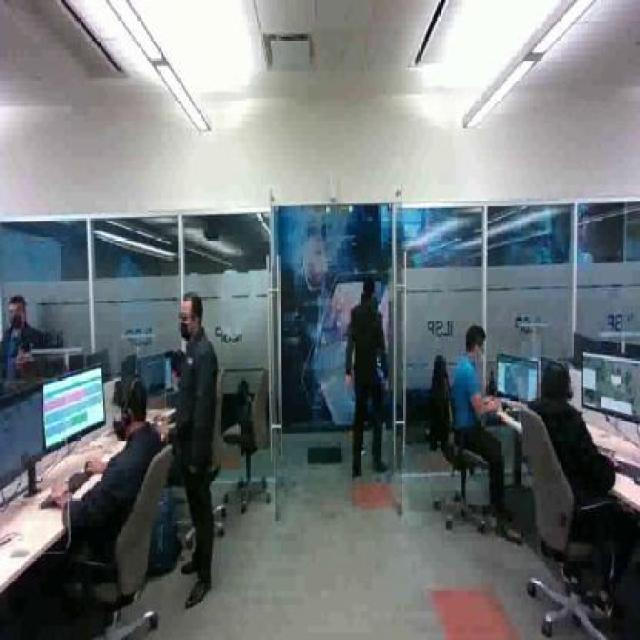sem_oculos: (109, 402, 140, 419), (181, 304, 199, 326), (474, 339, 487, 354)
